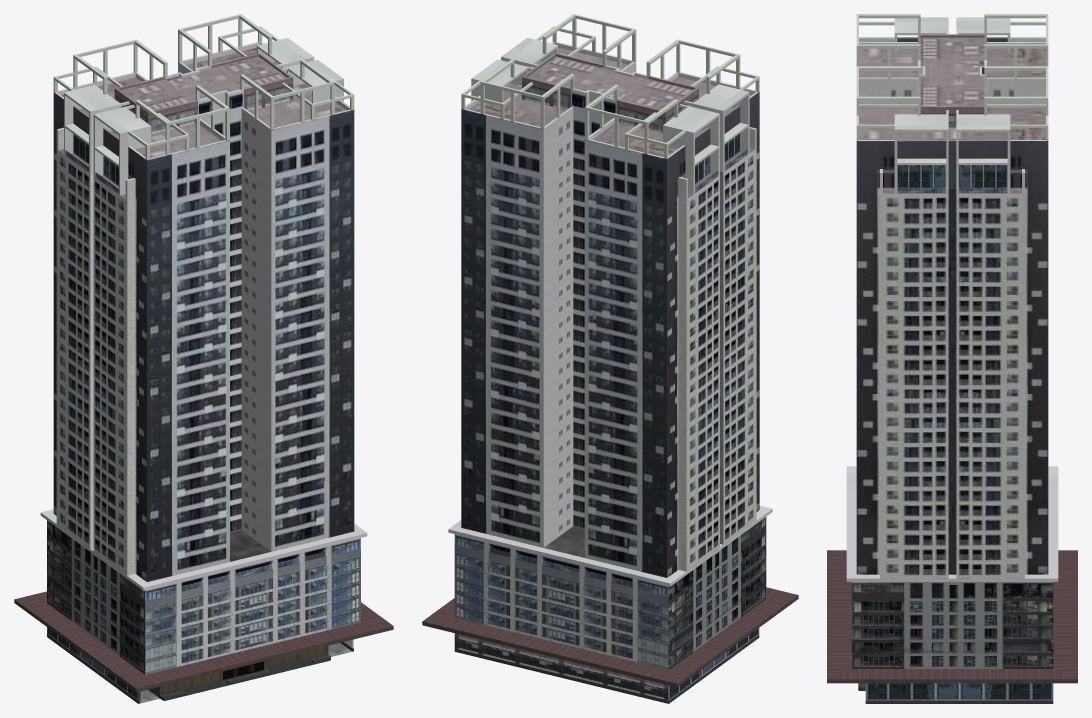
3 views of the same model, side by side, from view 1: azimuth 30°, elevation 25°; view 2: azimuth 150°, elevation 25°; view 3: azimuth 270°, elevation 25° (orthographic). The views are drawn at different scales.
Visible parts, largest first — view 1: HN1102_BonanzaBuilding; view 2: HN1102_BonanzaBuilding; view 3: HN1102_BonanzaBuilding.
Part boxes in pixels (left/top/right/bottom): HN1102_BonanzaBuilding: left=14, top=14, right=393, bottom=703; HN1102_BonanzaBuilding: left=422, top=14, right=798, bottom=703; HN1102_BonanzaBuilding: left=827, top=14, right=1077, bottom=703.
Size of the model in its own units: 62 by 133 by 51.
1 material, 1 textured.
